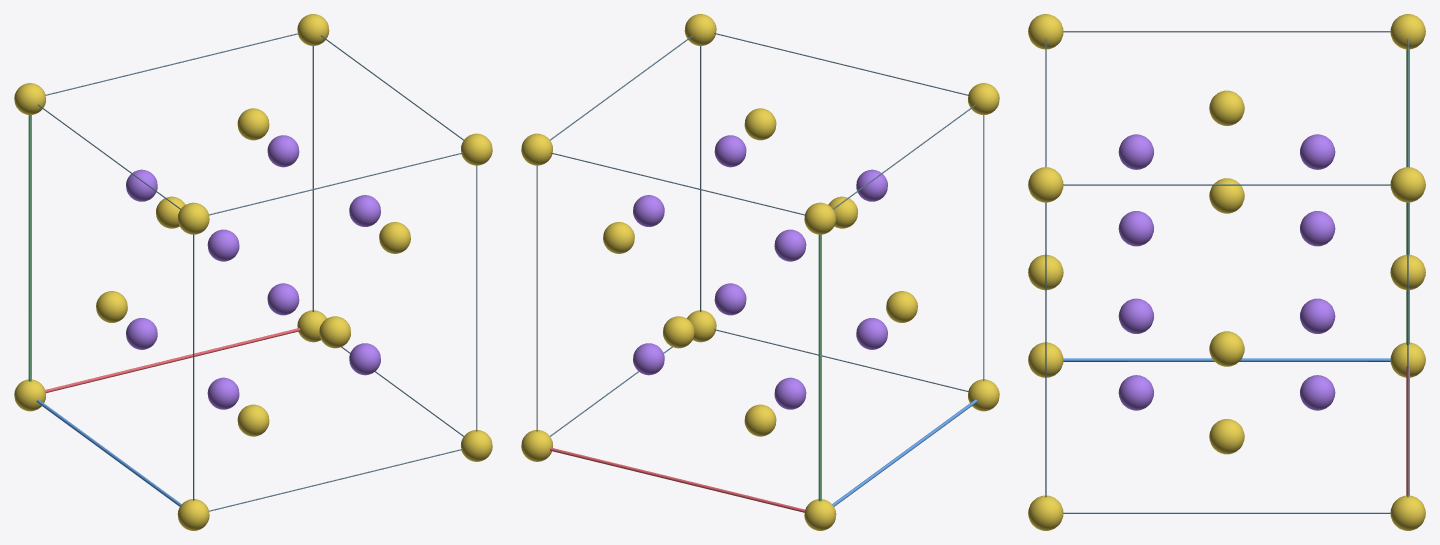
Rendered from chat-sodium-sulfide.glb.
3 views of the same model, side by side, from view 1: azimuth 30°, elevation 25°; view 2: azimuth 150°, elevation 25°; view 3: azimuth 270°, elevation 25° (orthographic). The views are drawn at different scales.
Visible parts, largest first — view 1: S · S · 1 (×14), Ô mạng và các trục a, b, c, Na · Na · 1 (×8); view 2: S · S · 1 (×14), Ô mạng và các trục a, b, c, Na · Na · 1 (×8); view 3: S · S · 1 (×14), Na · Na · 1 (×8), Ô mạng và các trục a, b, c.
Boxes of the visible parts, <box> form: S · S · 1 (×14): <box>14,14,492,530</box>; Ô mạng và các trục a, b, c: <box>28,33,477,511</box>; Na · Na · 1 (×8): <box>126,135,380,409</box>; S · S · 1 (×14): <box>521,14,999,530</box>; Ô mạng và các trục a, b, c: <box>536,33,984,512</box>; Na · Na · 1 (×8): <box>633,135,887,409</box>; S · S · 1 (×14): <box>1028,14,1425,530</box>; Na · Na · 1 (×8): <box>1118,134,1335,410</box>; Ô mạng và các trục a, b, c: <box>1045,31,1409,513</box>.
Size of the model in its own units: 7.17 by 7.17 by 7.17.
